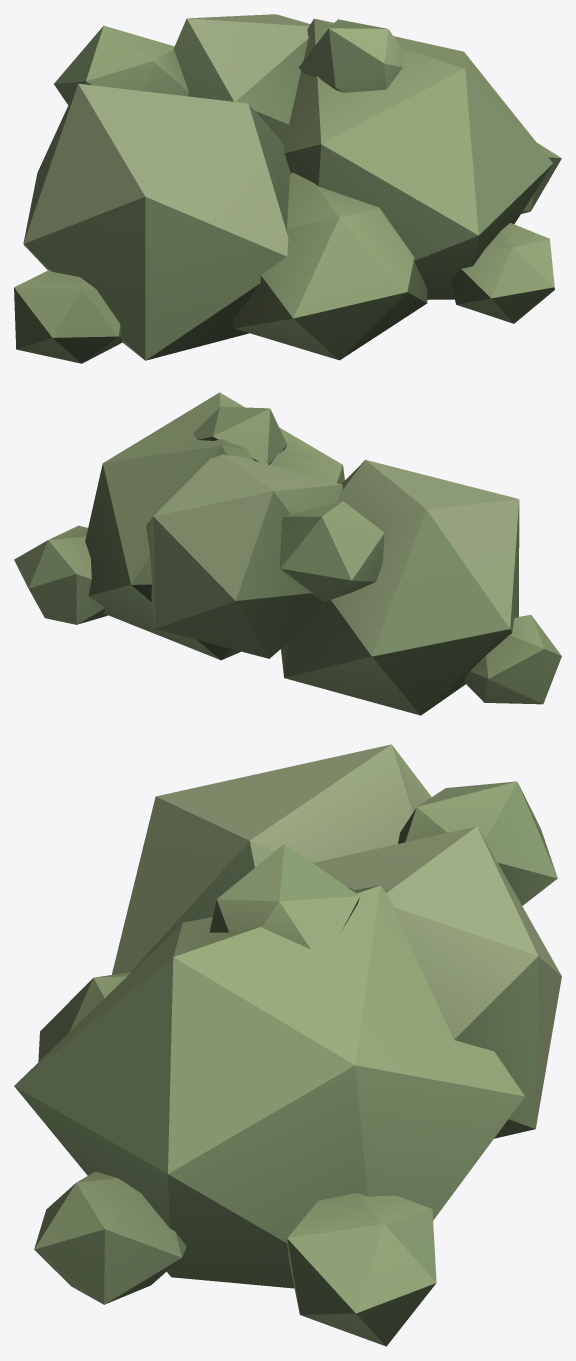
The model's file is rbush.lod1.glb.
3 views of the same model, one above another, from view 1: azimuth 30°, elevation 25°; view 2: azimuth 150°, elevation 25°; view 3: azimuth 270°, elevation 25° (orthographic). The views are drawn at different scales.
Bounding box in the file's own units: 2.54 × 1.17 × 1.53.
